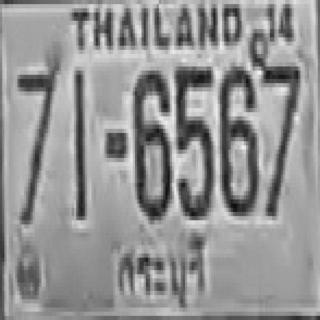N01: (73, 66, 86, 216), (72, 66, 83, 216)
N05: (174, 62, 211, 216)
N06: (218, 62, 257, 212), (133, 66, 170, 216)
N07: (15, 46, 61, 220), (261, 58, 298, 212)
P60: (114, 236, 210, 311)
